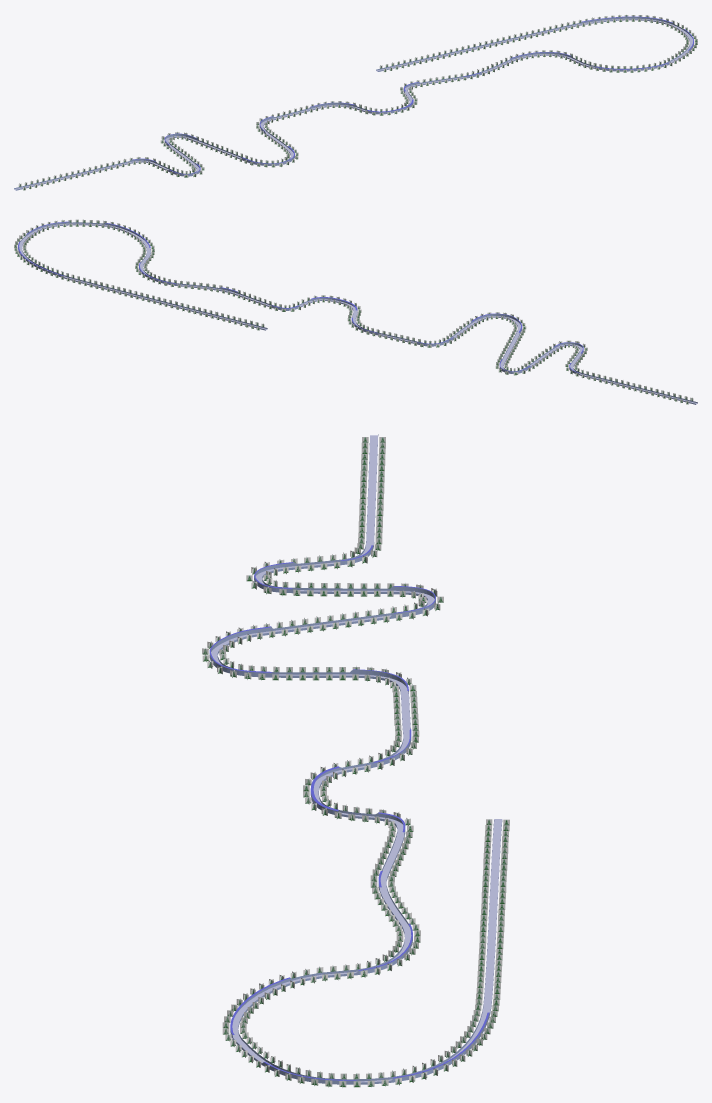
The model's file is BobsleighLugeTrack.glb.
3 renders of one model, top to bottom at view 1: azimuth 30°, elevation 25°; view 2: azimuth 150°, elevation 25°; view 3: azimuth 270°, elevation 25°, orthographic. The views are drawn at different scales.
Visible parts, largest first — view 1: Tree.001, Tree.002, SpeedHigh, SpeedSlowWall1, SpeedSlowWall2, SpeedNormal, SpeedSlowRoof, SpeedSlow; view 2: Tree.002, Tree.001, SpeedSlowWall1, SpeedHigh, SpeedSlowWall2, SpeedNormal, SpeedSlowRoof, SpeedSlow; view 3: Tree.001, Tree.002, SpeedNormal, SpeedHigh, SpeedSlowWall1, SpeedSlow, SpeedSlowWall2, SpeedSlowRoof.
Boxes of the visible parts, box(x1,y1,x2,y2) form: Tree.001: box(23, 15, 697, 190); Tree.002: box(18, 18, 689, 186); SpeedHigh: box(132, 17, 693, 176); SpeedSlowWall1: box(14, 19, 689, 189); SpeedSlowWall2: box(16, 22, 688, 190); SpeedNormal: box(14, 24, 687, 190); SpeedSlowRoof: box(132, 16, 693, 174); SpeedSlow: box(132, 18, 693, 172); Tree.002: box(23, 223, 688, 404); Tree.001: box(14, 219, 693, 400); SpeedSlowWall1: box(22, 224, 695, 404); SpeedHigh: box(18, 222, 583, 373); SpeedSlowWall2: box(20, 222, 697, 403); SpeedNormal: box(20, 223, 697, 404); SpeedSlowRoof: box(18, 221, 583, 372); SpeedSlow: box(19, 223, 582, 373); Tree.001: box(202, 437, 509, 1087); Tree.002: box(219, 437, 492, 1079); SpeedNormal: box(234, 435, 502, 1082); SpeedHigh: box(209, 546, 489, 1084); SpeedSlowWall1: box(217, 434, 494, 1081); SpeedSlow: box(211, 549, 486, 1079); SpeedSlowWall2: box(232, 443, 502, 1084); SpeedSlowRoof: box(209, 545, 489, 1080).
Bounding box in the file's own units: 87.57 × 0.3771 × 17.46.
7 materials, 4 textured.
